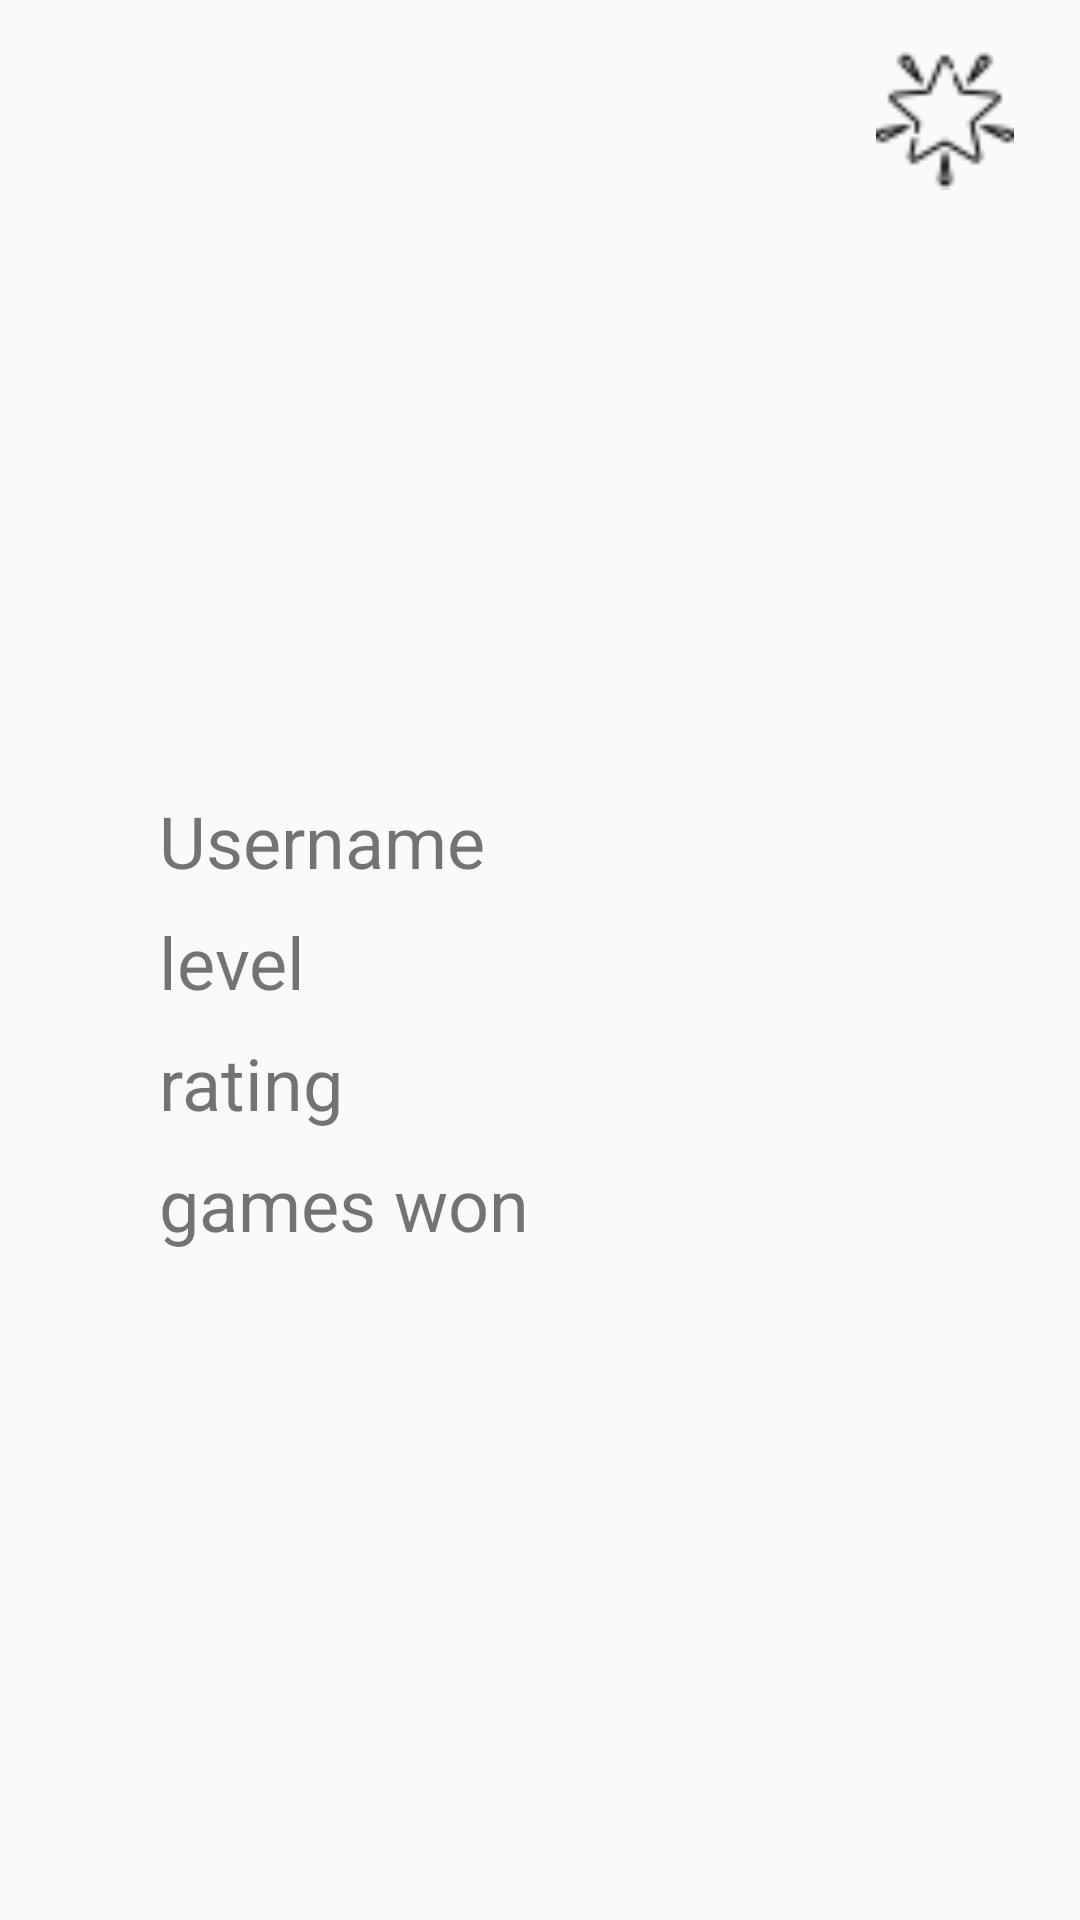

Locate icon controls on the screen. Image size 1080*1920, boxes as (x1, y1, x2, y2).
star empty: (876, 52, 1014, 190)
